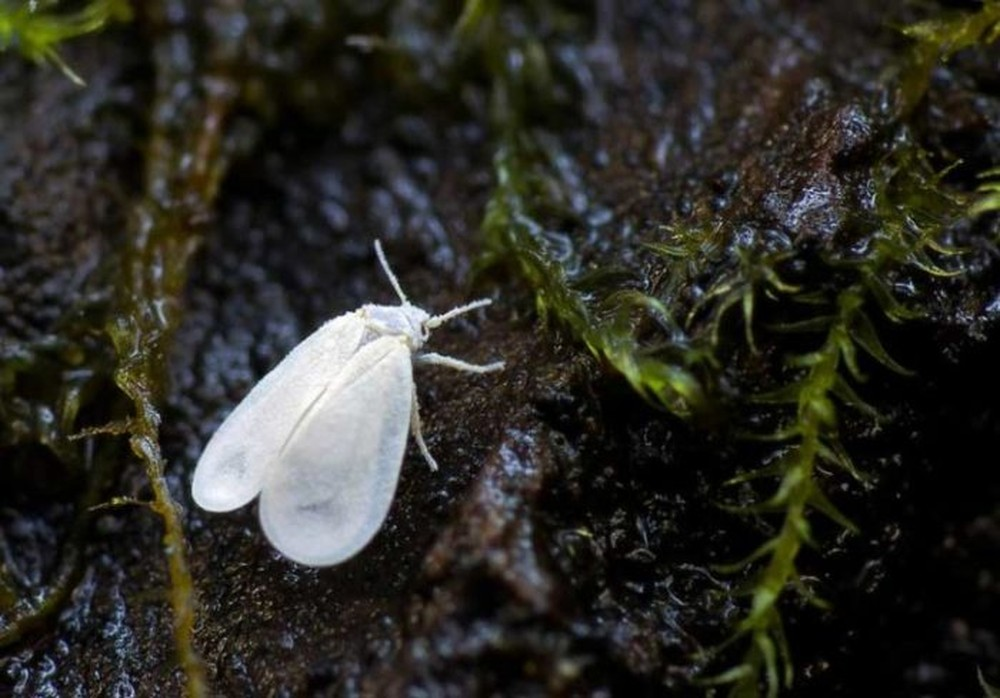Mosca Blanca: (179, 249, 528, 582)
